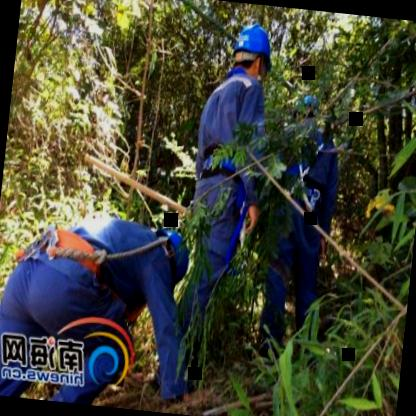helmet: (148, 221, 193, 290), (229, 20, 275, 84)
